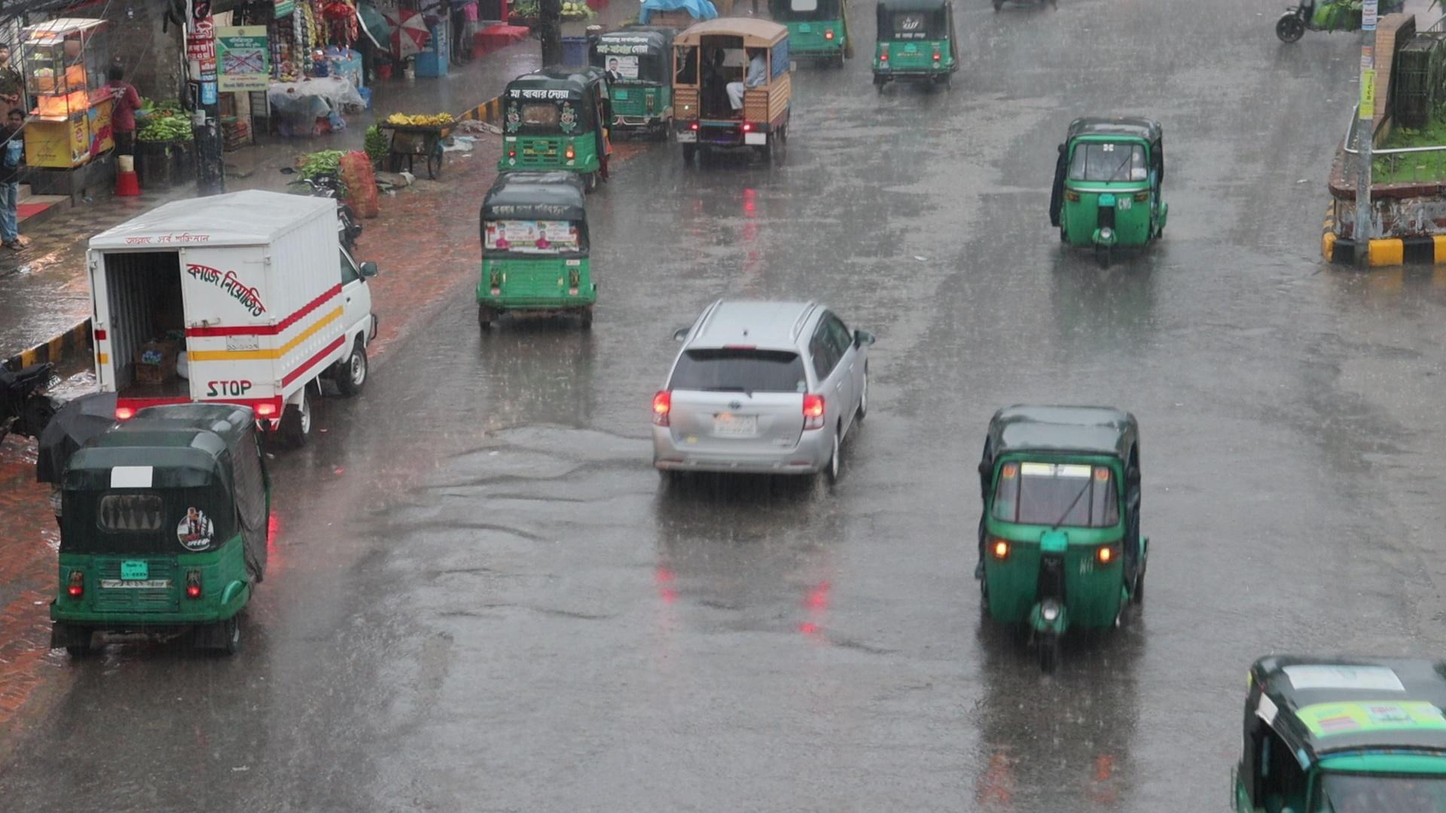Car: (649, 289, 876, 509)
Truck: (670, 20, 797, 182)
